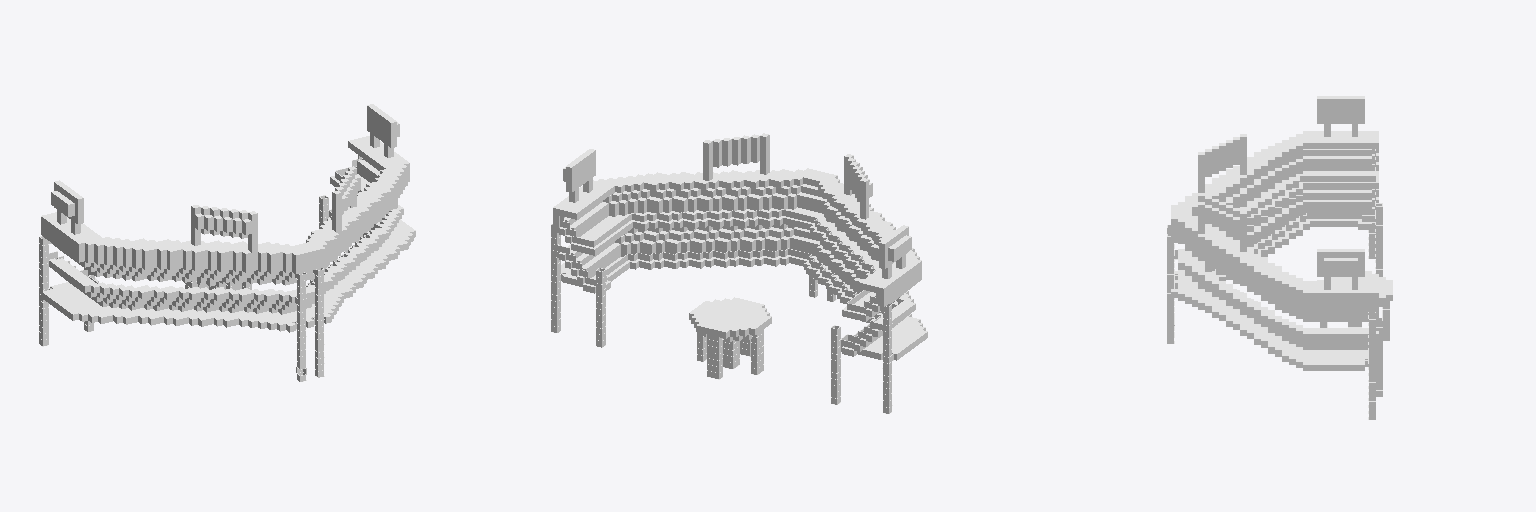
The model's file is arena.obj.
3 views of the same model, side by side, from view 1: azimuth 30°, elevation 25°; view 2: azimuth 150°, elevation 25°; view 3: azimuth 270°, elevation 25° (orthographic).
Parts seen in each view (by area): view 1: Arena__74_106_152_to_134_132_188; view 2: Arena__74_106_152_to_134_132_188; view 3: Arena__74_106_152_to_134_132_188.
Boxes of the visible parts, x1=… form: Arena__74_106_152_to_134_132_188: x1=39, y1=104, x2=415, y2=381; Arena__74_106_152_to_134_132_188: x1=551, y1=133, x2=927, y2=413; Arena__74_106_152_to_134_132_188: x1=1167, y1=96, x2=1392, y2=419.
Size of the model in its own units: 57 by 26 by 32.56.